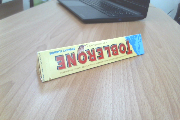Chocolate: (32, 28, 152, 87)
